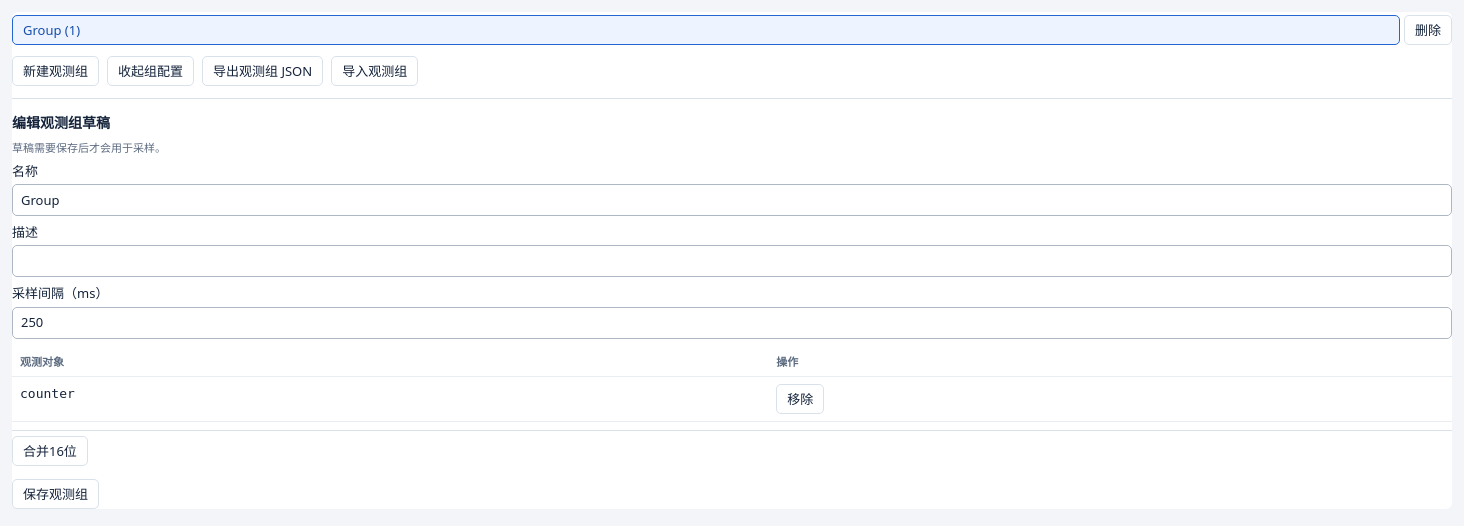
Test: invalidates a delete confirmation after the selected revision changes
Click the button "删除" at {"x": 1428, "y": 30}, box 1404,15 -> 1452,45
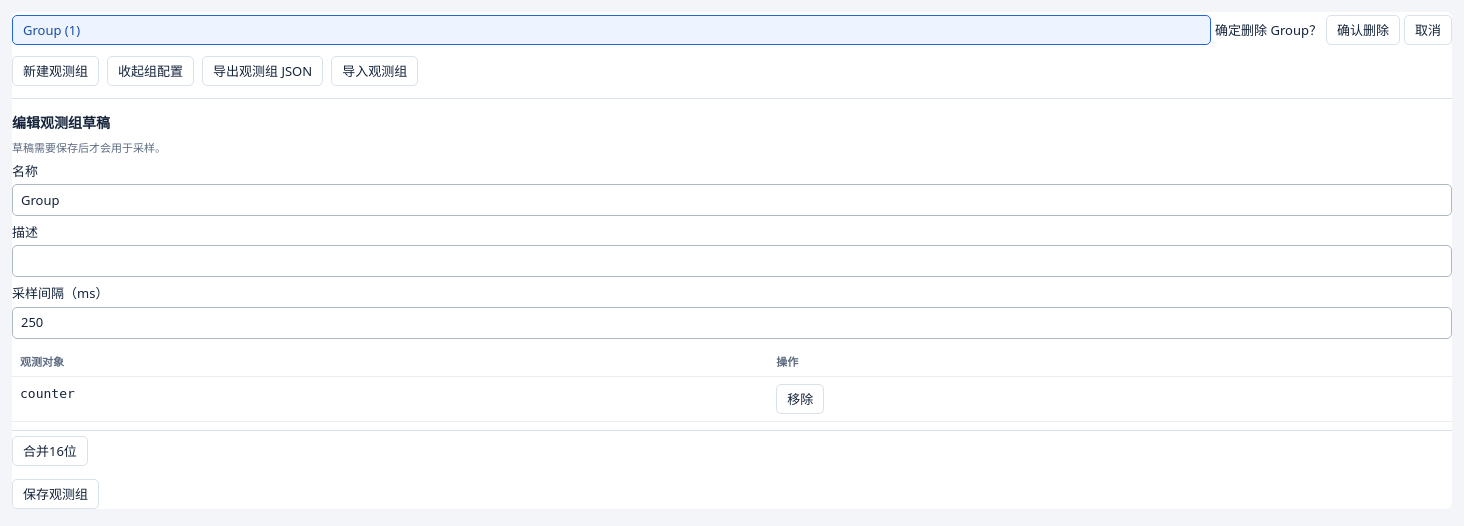
Expected: the button "确认删除" is enabled, 1326,15 -> 1400,45
